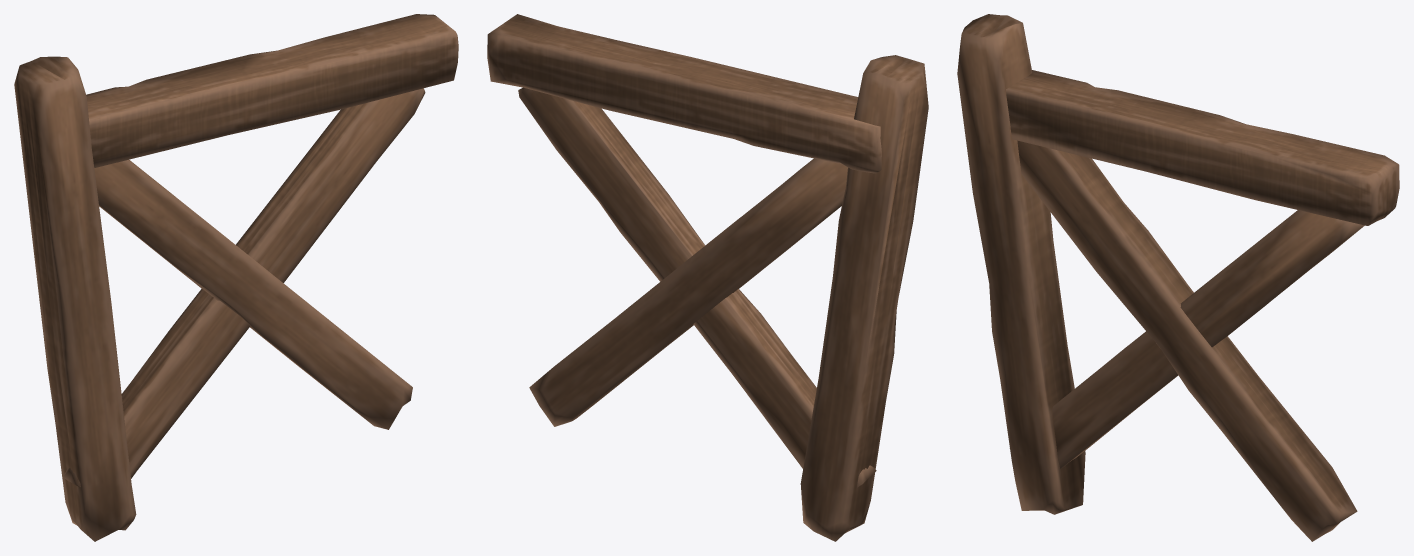
File: SM_fence_small_02.fbx
3 renders of one model, left to right at view 1: azimuth 30°, elevation 25°; view 2: azimuth 150°, elevation 25°; view 3: azimuth 330°, elevation 25°, orthographic.
Visible parts, largest first — view 1: fence_small_02; view 2: fence_small_02; view 3: fence_small_02.
Boxes of the visible parts, x1,y1,x2,y2 form: fence_small_02: (14,14,458,541); fence_small_02: (487,14,928,541); fence_small_02: (957,14,1399,541).
Bounding box in the file's own units: 176 × 191 × 24.62.
